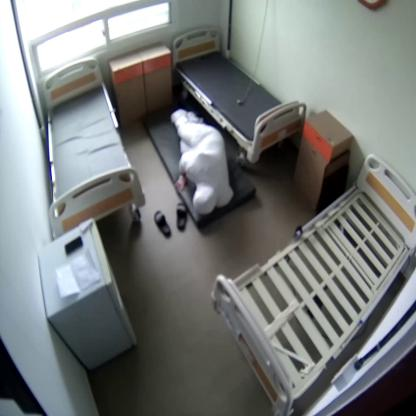Person: (171, 111, 235, 214)
